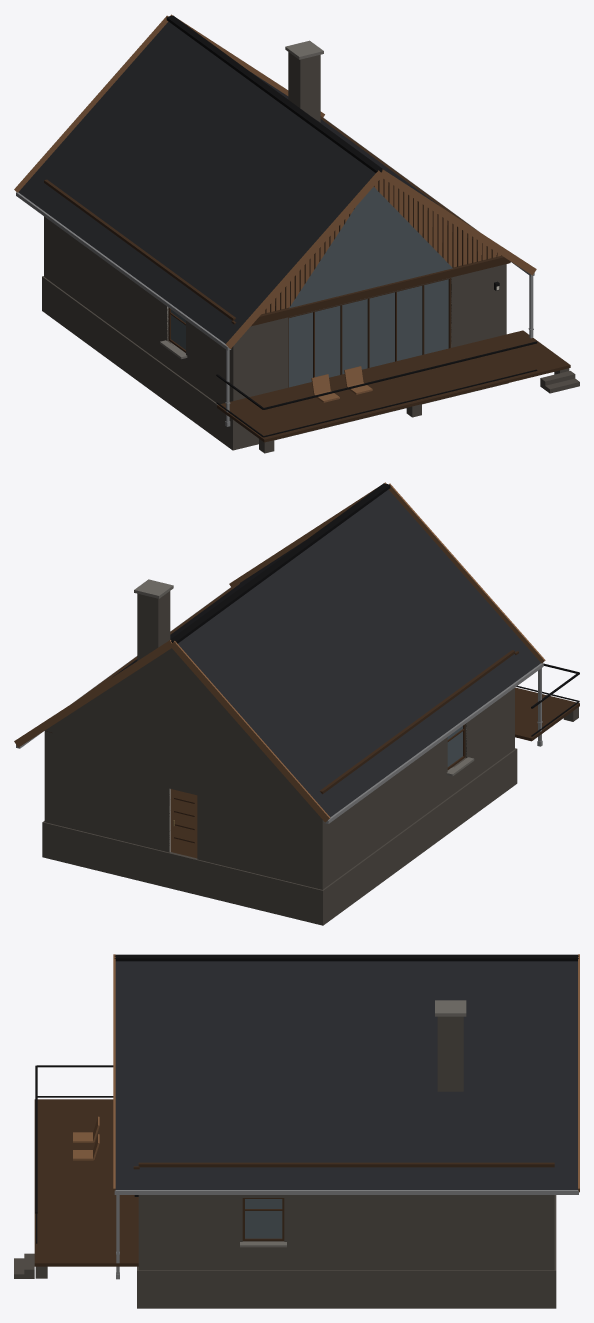
Rendered from hill_cottage_10x12_1_far.glb.
3 renders of one model, top to bottom at view 1: azimuth 30°, elevation 25°; view 2: azimuth 150°, elevation 25°; view 3: azimuth 270°, elevation 25°, orthographic. The views are drawn at different scales.
Visible parts, largest first — view 1: hill_cottage_10x12_1; view 2: hill_cottage_10x12_1; view 3: hill_cottage_10x12_1.
Boxes of the visible parts, box(x1,y1,x2,y2) form: hill_cottage_10x12_1: box(14, 14, 579, 453); hill_cottage_10x12_1: box(14, 482, 579, 925); hill_cottage_10x12_1: box(14, 954, 579, 1308).
Size of the model in its own units: 11.36 by 8.89 by 16.33.
